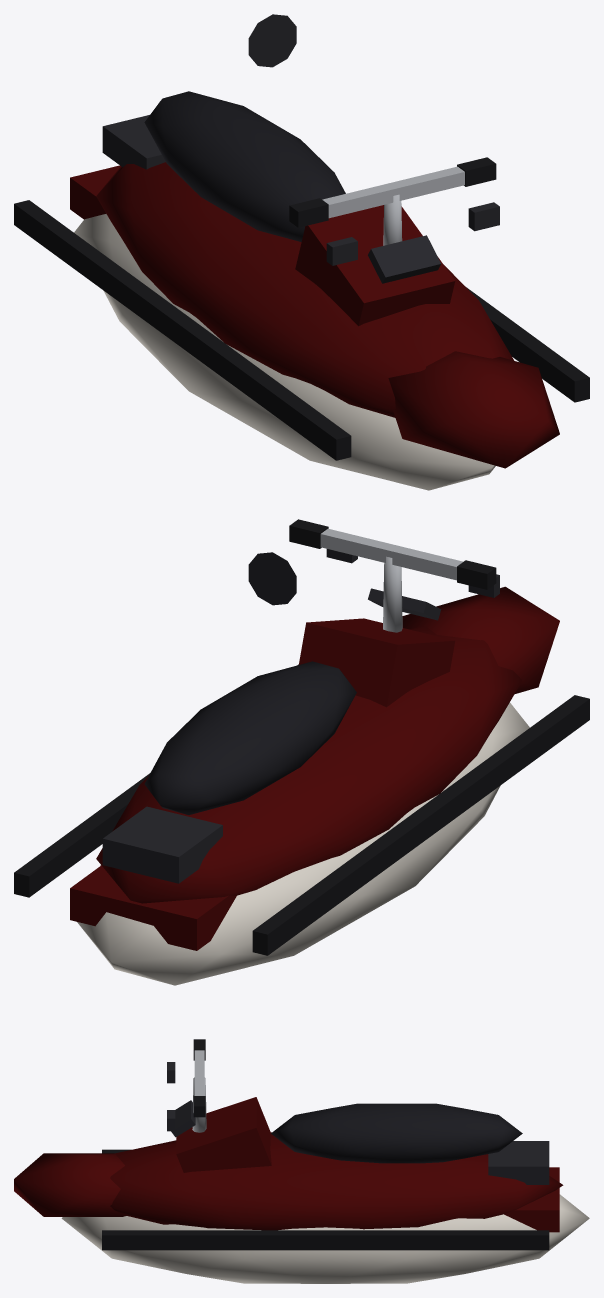
The model's file is Jet_Ski.glb.
3 renders of one model, top to bottom at view 1: azimuth 30°, elevation 25°; view 2: azimuth 150°, elevation 25°; view 3: azimuth 270°, elevation 25°, orthographic. The views are drawn at different scales.
Visible parts, largest first — view 1: Jet_Ski; view 2: Jet_Ski; view 3: Jet_Ski.
Part boxes in pixels (x1,y1,x2,y2): Jet_Ski: (14, 14, 589, 490); Jet_Ski: (14, 519, 589, 985); Jet_Ski: (14, 1039, 589, 1283).
Bounding box in the file's own units: 1 × 1.4 × 2.83.
